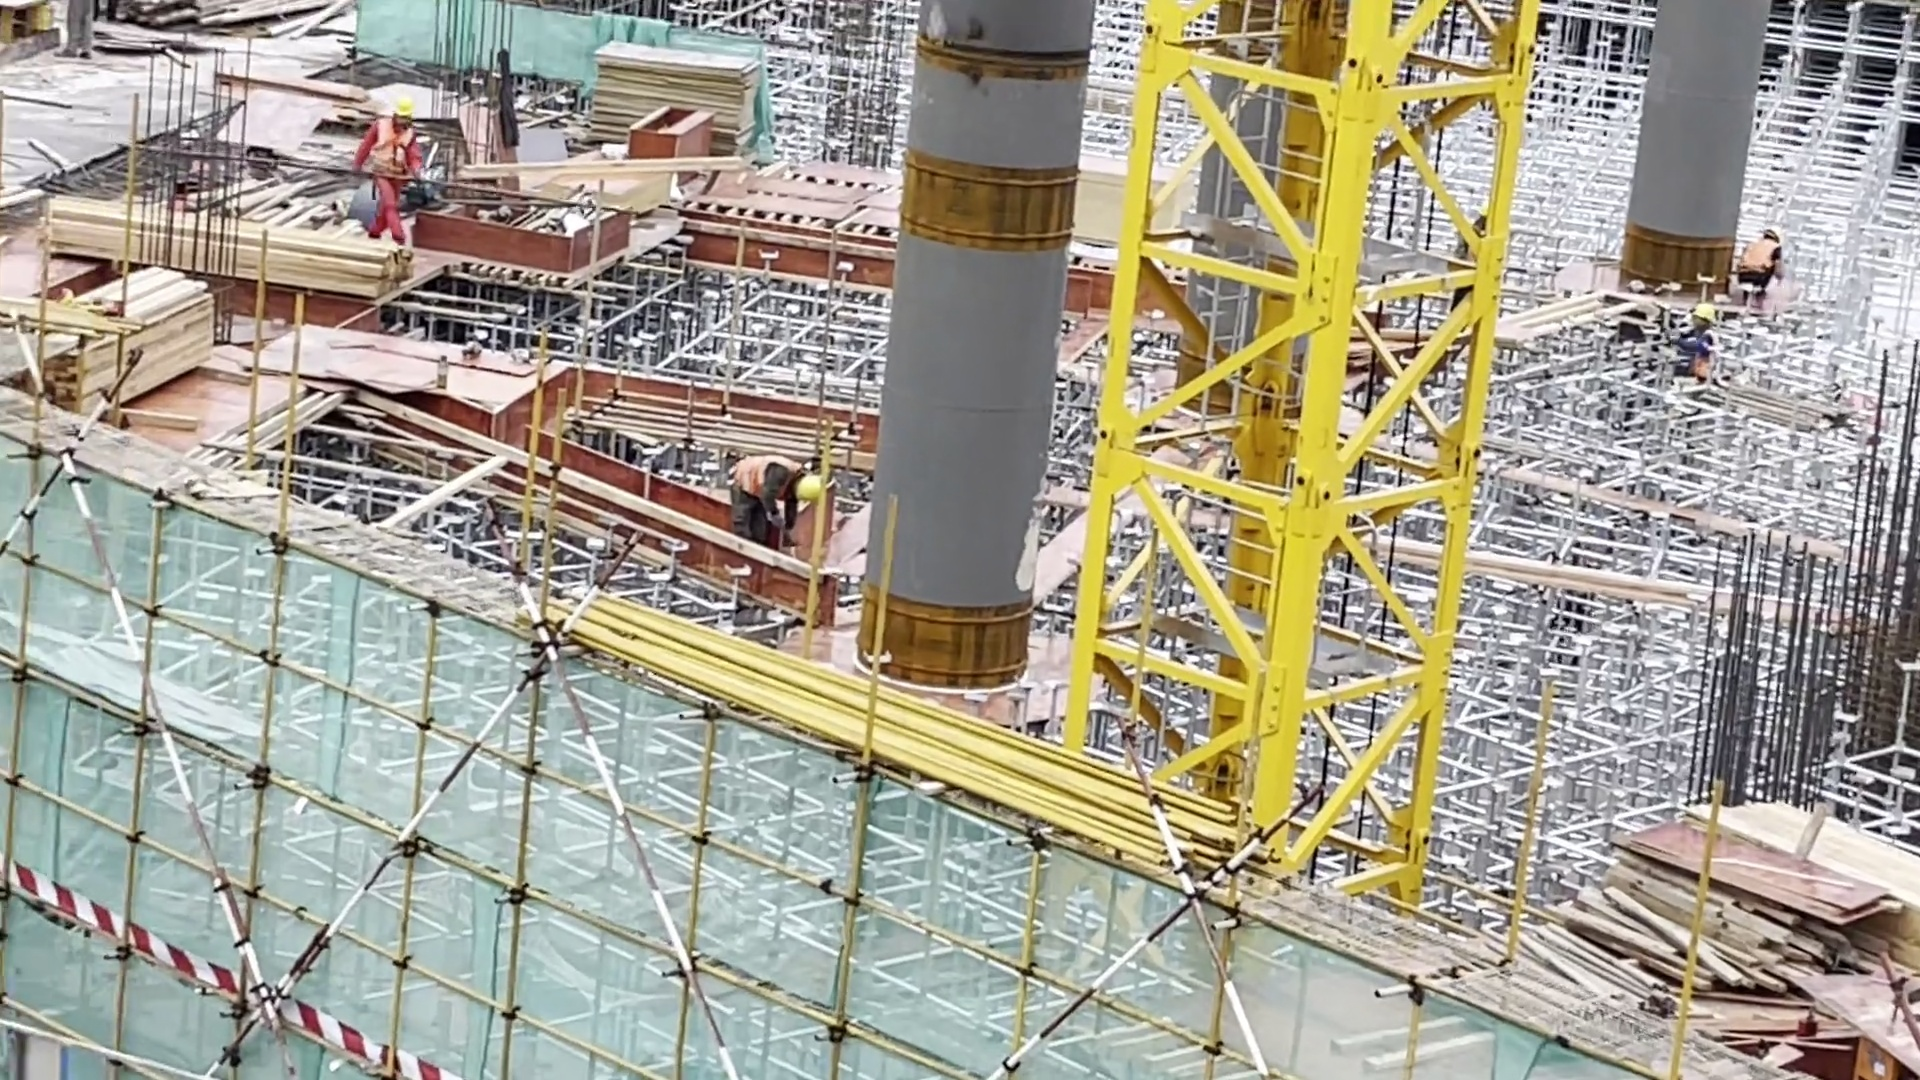helmet: (794, 465, 832, 512), (382, 91, 419, 128), (1689, 295, 1718, 331), (1760, 213, 1787, 244)
person: (718, 441, 841, 556), (356, 99, 421, 246), (1666, 301, 1720, 390), (1742, 214, 1787, 294)
vest: (732, 451, 789, 500), (374, 127, 411, 176), (1748, 244, 1775, 277), (1695, 326, 1715, 367)
wood: (1527, 857, 1845, 1009), (39, 196, 405, 299), (47, 265, 211, 410)
